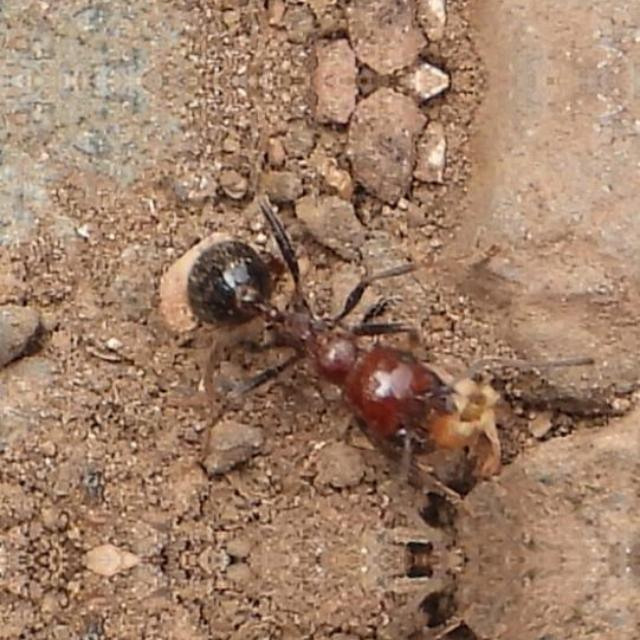Messor: (178, 194, 467, 464)
